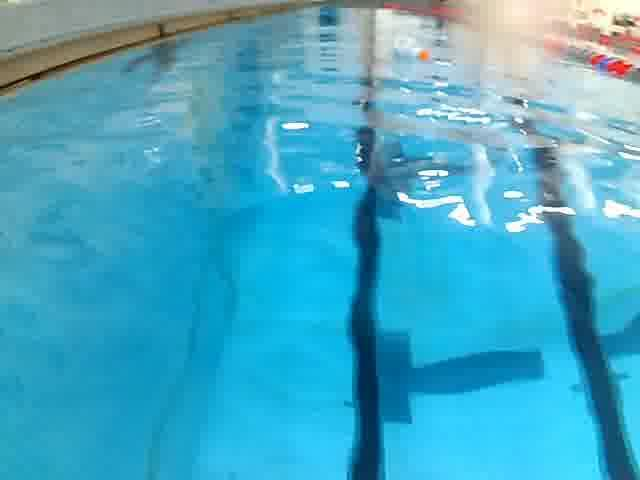Bottle: (388, 45, 439, 63)
